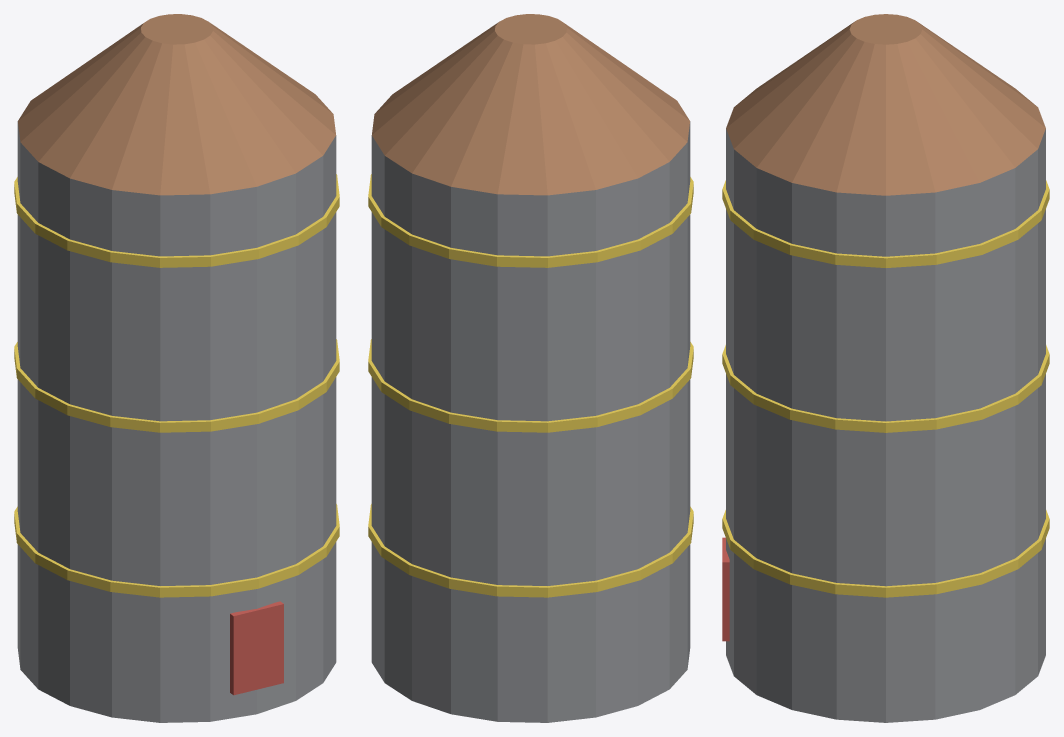
The model's file is silo.glb.
The picture shows the model from 3 angles, left to right: view 1: azimuth 30°, elevation 25°; view 2: azimuth 150°, elevation 25°; view 3: azimuth 270°, elevation 25°; orthographic projection.
Visible parts, largest first — view 1: silo; view 2: silo; view 3: silo.
Part boxes in pixels (x1,y1,x2,y2): silo: [14, 14, 339, 722]; silo: [368, 14, 693, 722]; silo: [722, 14, 1049, 722].
Size of what is drawn, in the model's own units: 4.5 by 9.5 by 4.5.
